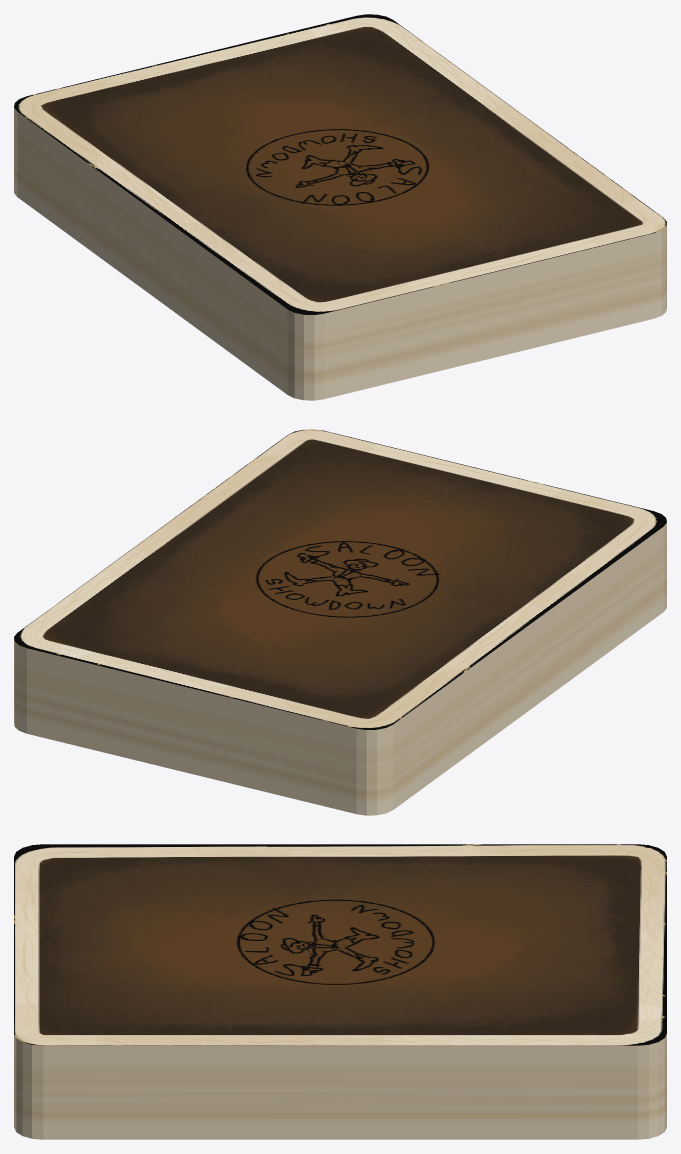
The model's file is cardpack.gltf.
The picture shows the model from 3 angles, top to bottom: view 1: azimuth 30°, elevation 25°; view 2: azimuth 150°, elevation 25°; view 3: azimuth 270°, elevation 25°; orthographic projection. The views are drawn at different scales.
Visible parts, largest first — view 1: room.001; view 2: room.001; view 3: room.001.
Boxes of the visible parts, bbox=[...] form: room.001: bbox=[14, 14, 666, 400]; room.001: bbox=[14, 429, 666, 815]; room.001: bbox=[14, 844, 666, 1139].
Bounding box in the file's own units: 0.37 × 0.0805 × 0.5066.
Materials: 1 (1 with a texture image).
